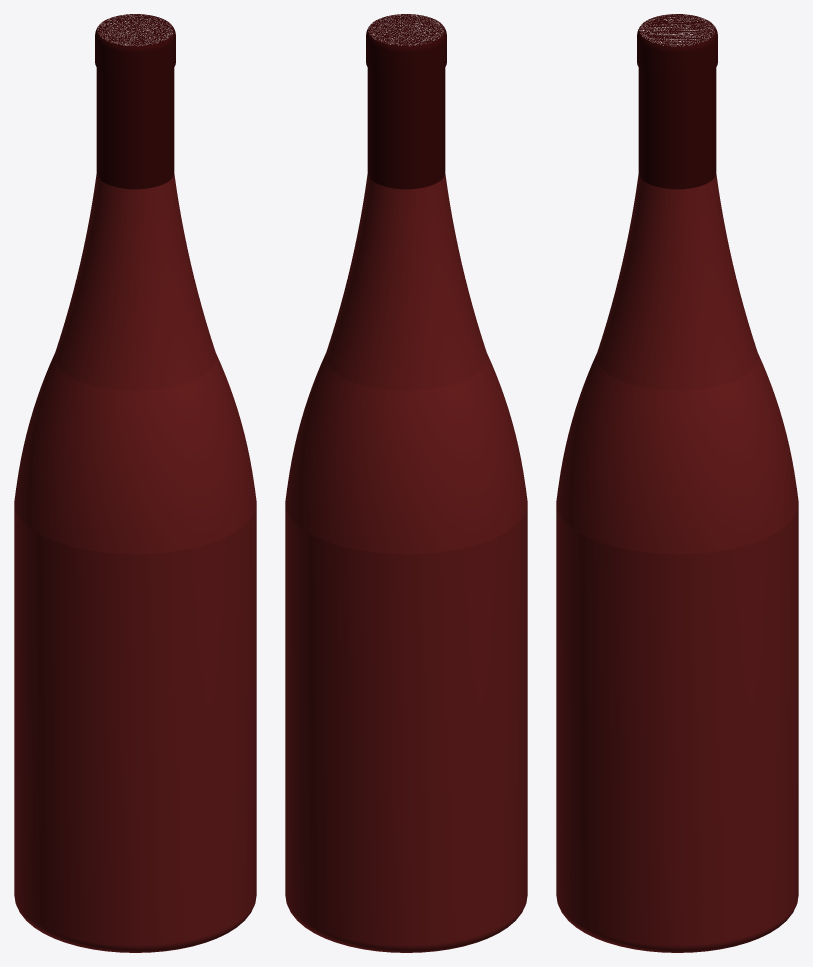
3 renders of one model, left to right at view 1: azimuth 30°, elevation 25°; view 2: azimuth 150°, elevation 25°; view 3: azimuth 270°, elevation 25°, orthographic.
Parts seen in each view (by area): view 1: mesh1_mesh1-geometry, mesh2_mesh2-geometry; view 2: mesh1_mesh1-geometry, mesh2_mesh2-geometry; view 3: mesh1_mesh1-geometry, mesh2_mesh2-geometry.
Boxes of the visible parts, x1,y1,x2,y2 form: mesh1_mesh1-geometry: [14, 68, 256, 952]; mesh2_mesh2-geometry: [95, 14, 175, 79]; mesh1_mesh1-geometry: [285, 68, 527, 952]; mesh2_mesh2-geometry: [366, 14, 446, 79]; mesh1_mesh1-geometry: [556, 68, 798, 952]; mesh2_mesh2-geometry: [637, 14, 717, 79].
Size of the model in its own units: 0.2365 by 0.9424 by 0.2365.
